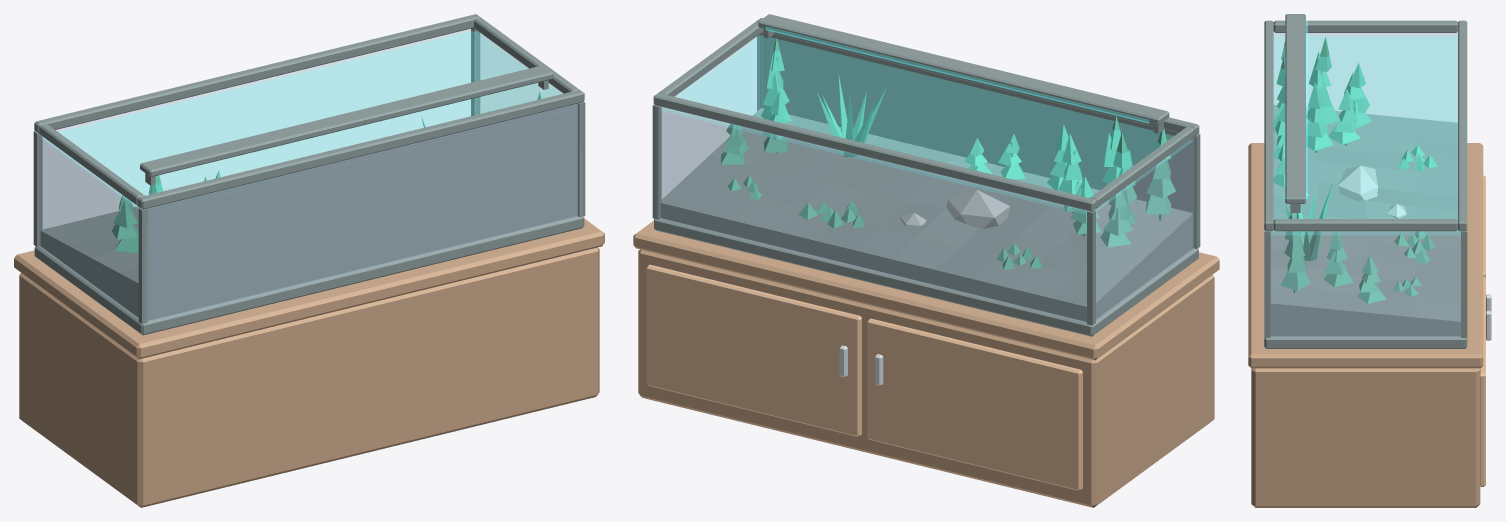
Rendered from aquarium_2.glb.
3 views of the same model, side by side, from view 1: azimuth 30°, elevation 25°; view 2: azimuth 150°, elevation 25°; view 3: azimuth 270°, elevation 25° (orthographic). The views are drawn at different scales.
Parts seen in each view (by area): view 1: aquarium_2; view 2: aquarium_2; view 3: aquarium_2.
Part boxes in pixels (bbox=[...]): aquarium_2: bbox=[14, 14, 604, 507]; aquarium_2: bbox=[633, 14, 1219, 507]; aquarium_2: bbox=[1248, 14, 1491, 507].
Size of the model in its own units: 0.8836 by 0.5755 by 0.4255.
